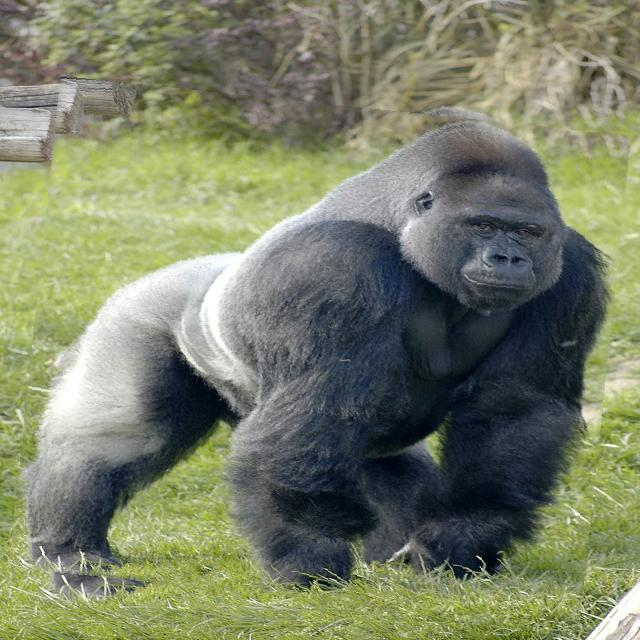gorila: (21, 91, 619, 613)
